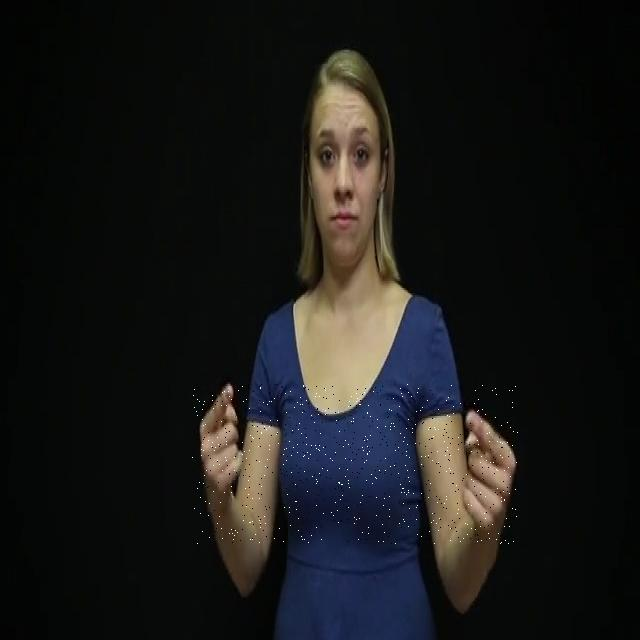allergy: (192, 384, 518, 544)
